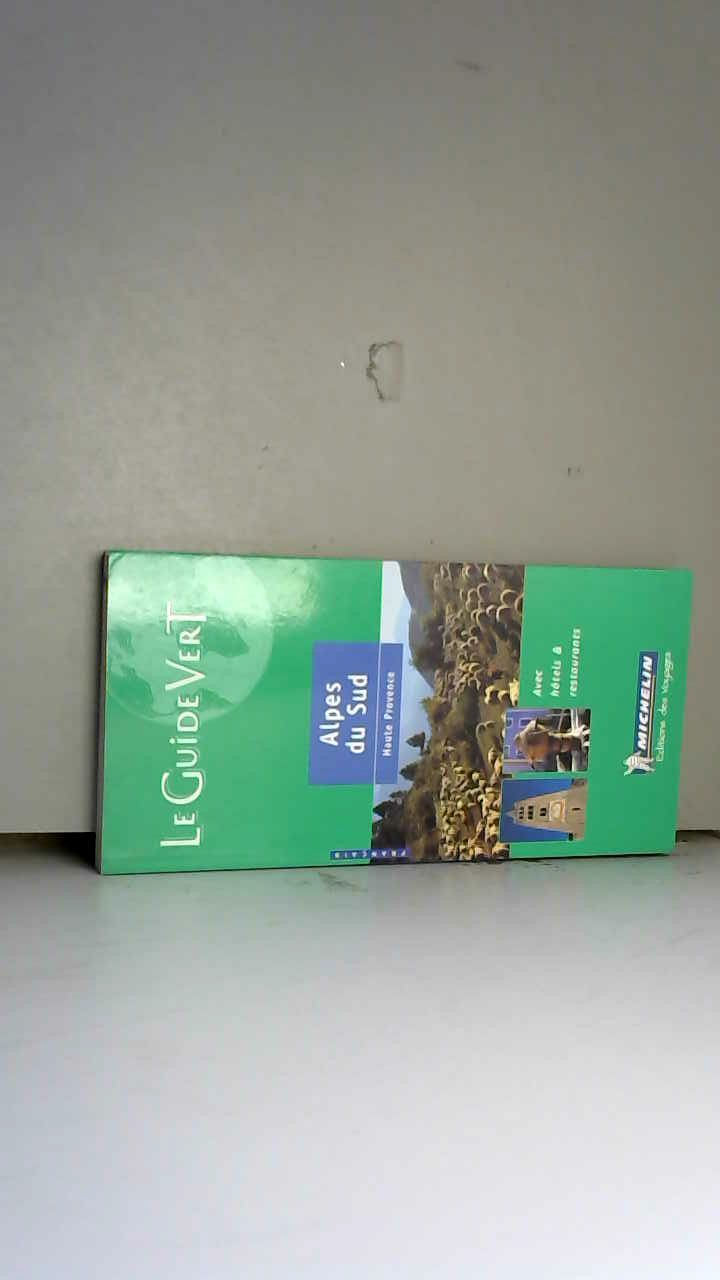book: (76, 526, 708, 900)
